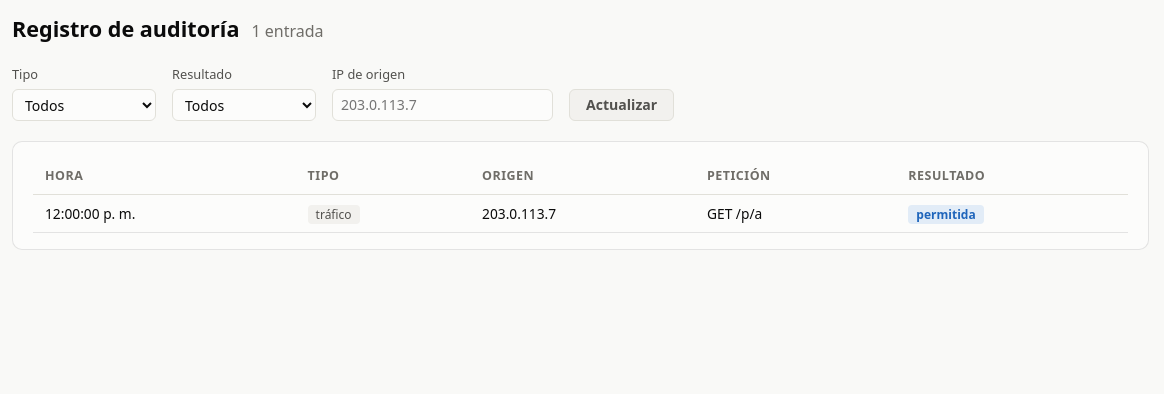
it: Events › keeps the last page on screen when a refresh fails, and offers a retry
Expected: the text "GET /p/a" is shown, [695,194,896,232]
What coordinates should you click on to do the following:
click the button "Actualizar"
I would click on:
 (622, 105)
Its box is [569,89,674,121].
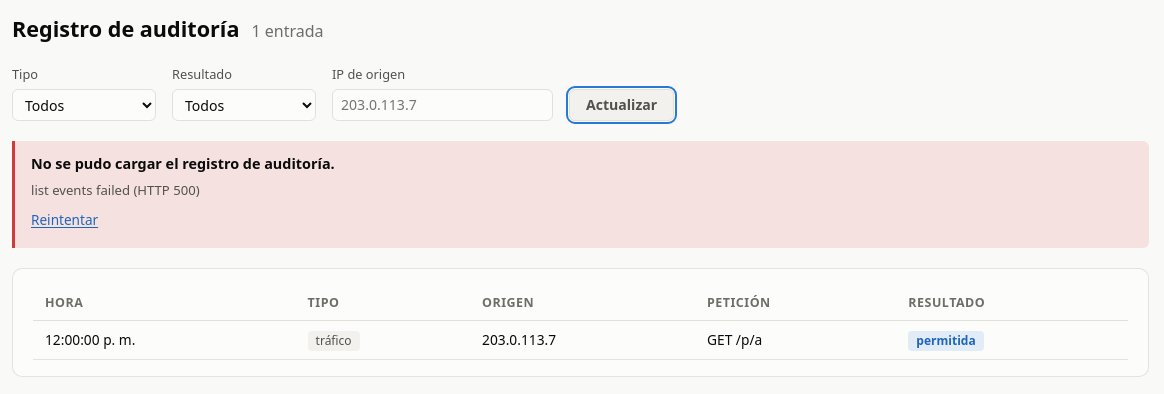
Expected: the text "GET /p/a" is shown, [695,321,896,359]
Expected: the message shows "No se pudo cargar el registro de auditoría.", [31,154,335,173]
Expected: the message shows "list events failed (HTTP 500)", [31,181,200,199]
What coordinates should you click on to do the following:
click the button "Reintentar"
I would click on:
 (65, 220)
Its box is [27,204,102,236].
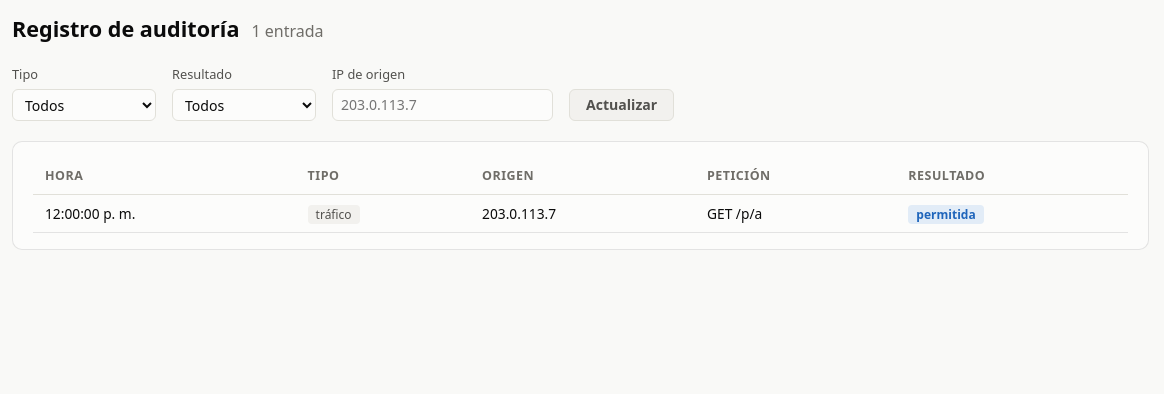
Expected: the message is gone
